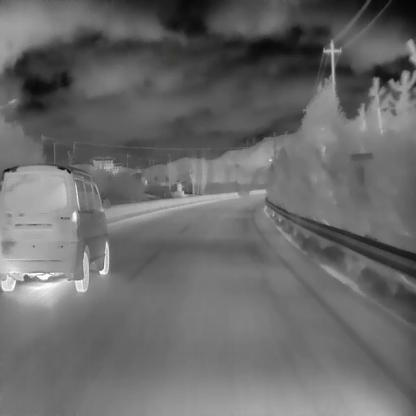car: (0, 163, 108, 291)
